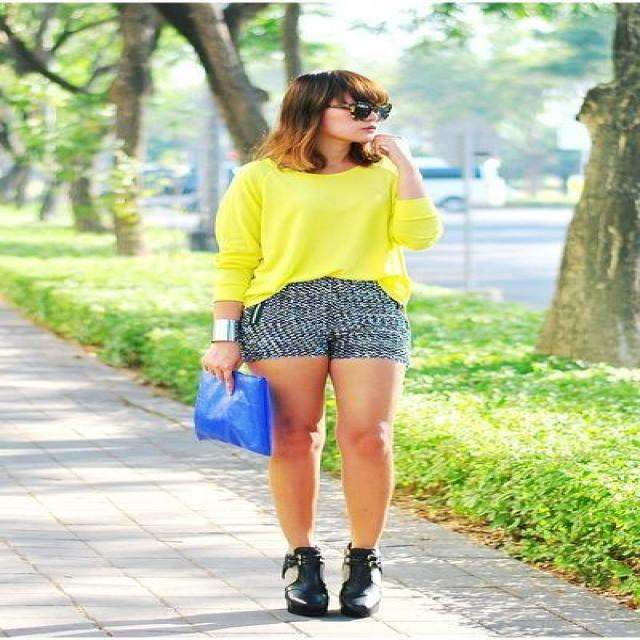bag: (194, 372, 272, 454)
shirt: (218, 158, 437, 306)
shoe: (282, 543, 381, 620)
shorts: (235, 281, 408, 370)
sunglass: (346, 90, 390, 120)
